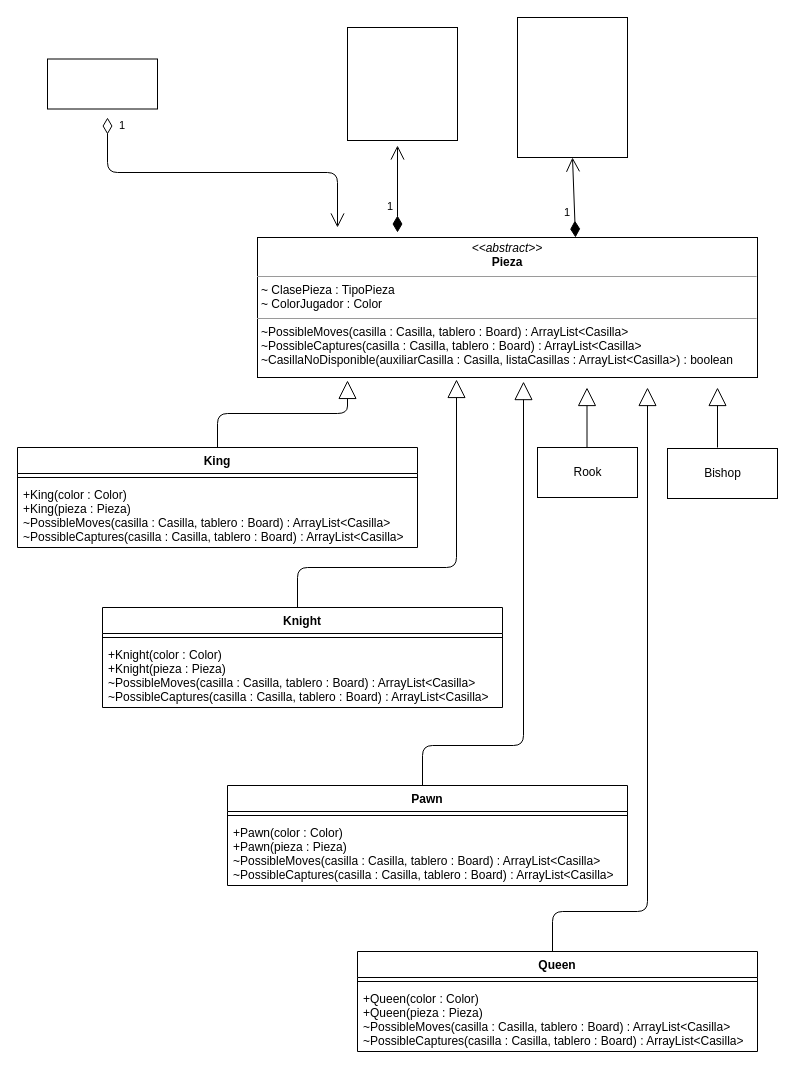
The diagram is 795 pixels wide and 1072 high, and some of its shapes have lost their labels. Each missing label, with the centre of its shape:
"<<Enumeration>> Color BLACK BLUE PURPLE GREEN" goes at (402,83).
"<<Enumeration>> TipoPieza PAWN KNIGHT BISHOP ROOK QUEEN KING" goes at (572,87).
"Casilla" goes at (102,83).
